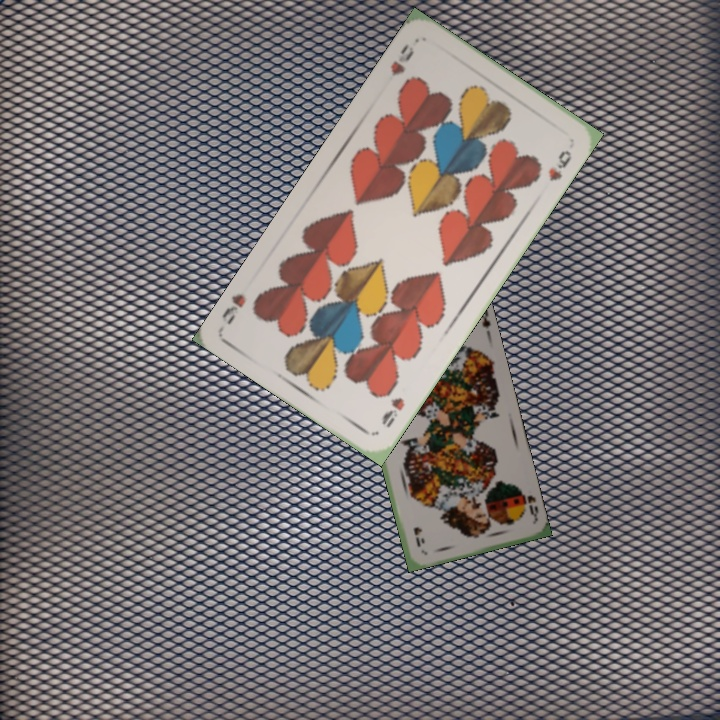H9: (386, 40, 417, 79), (377, 393, 408, 431)
SO: (515, 485, 541, 524)
